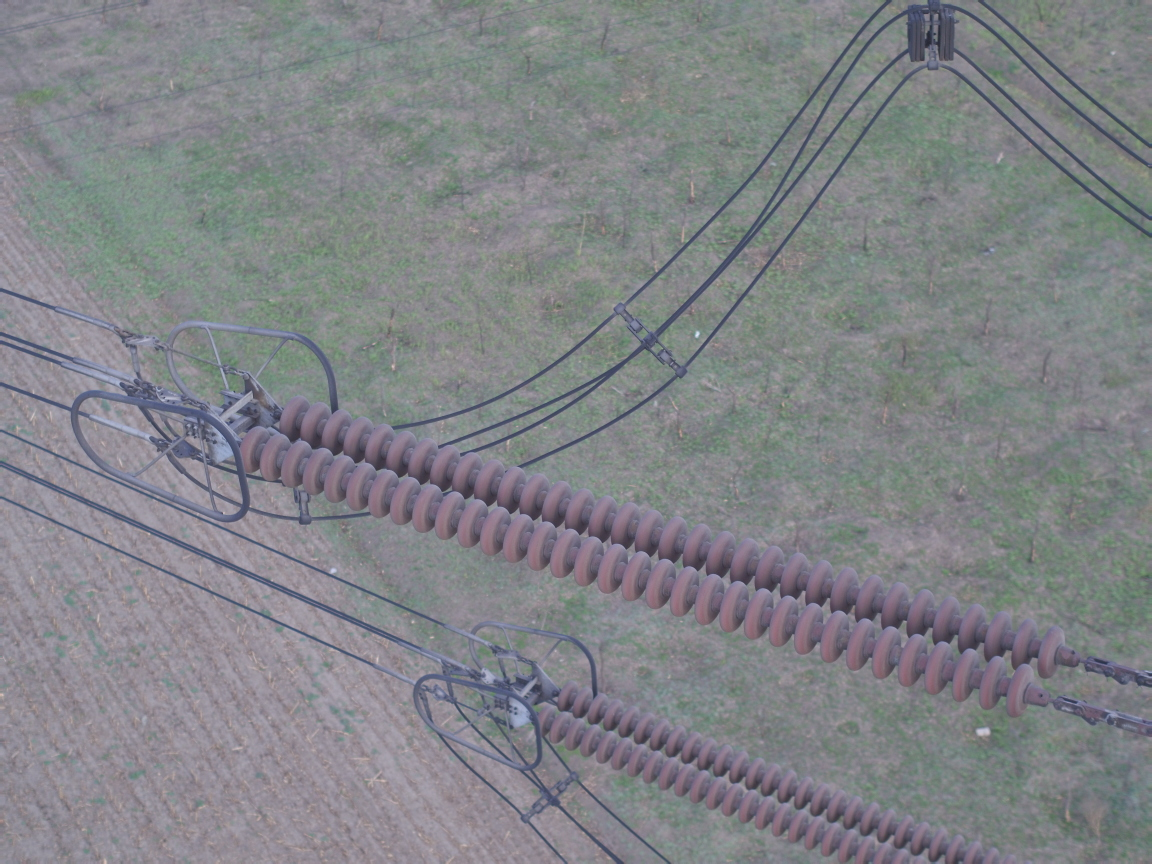insulator: (217, 391, 1152, 730), (516, 681, 1013, 864)
